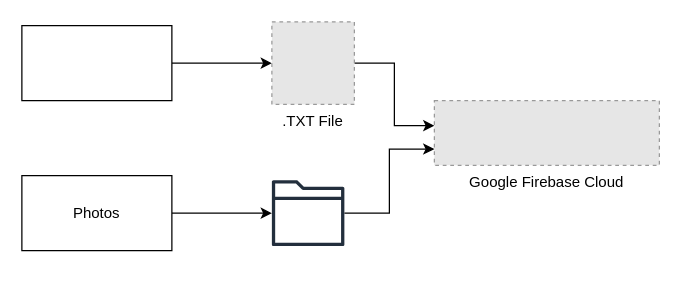
This 681x294 diagram has some shape labels left out. Grey dashed boxes stand in for pictures. Here are the shapes that lost their labels. From the top down, the centre of each, then its label:
the point at 96,62: Sensors data
the point at 307,212: Images folder
